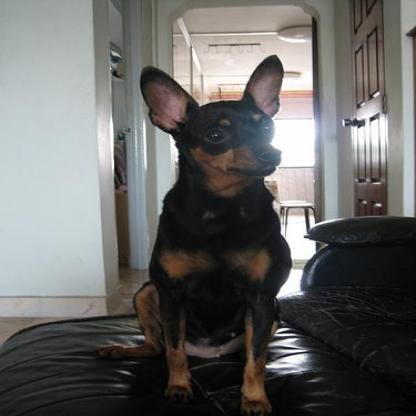miniature_pinscher: (94, 56, 285, 414)
